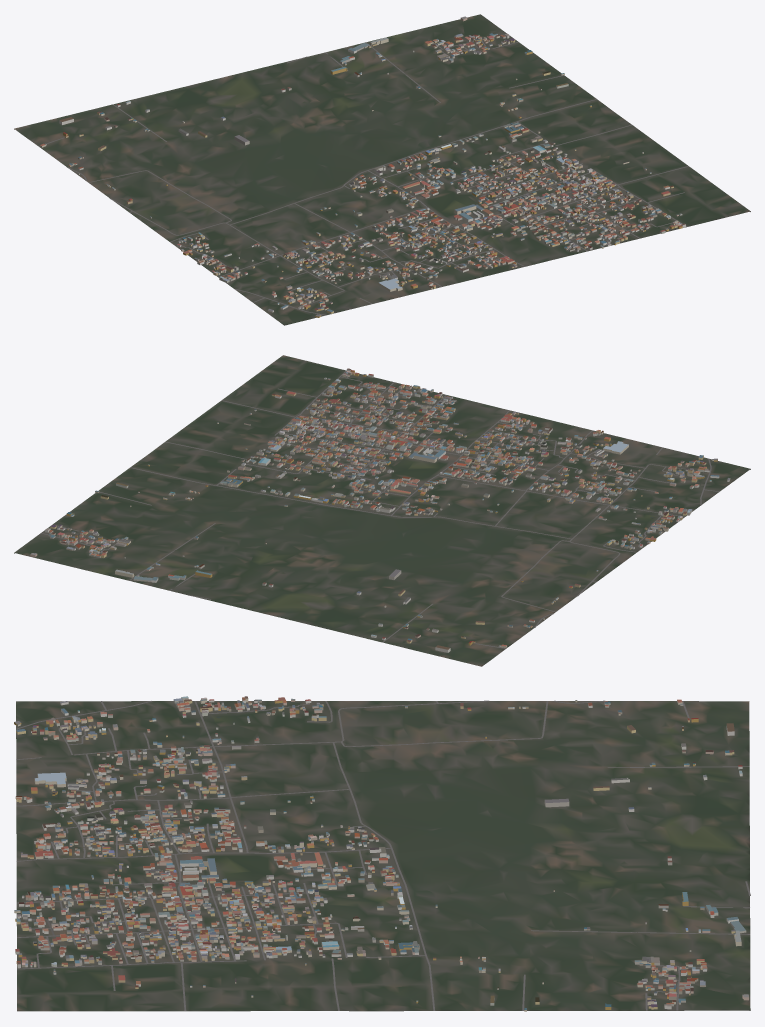
3 renders of one model, top to bottom at view 1: azimuth 30°, elevation 25°; view 2: azimuth 150°, elevation 25°; view 3: azimuth 270°, elevation 25°, orthographic. The views are drawn at different scales.
Visible parts, largest first — view 1: ground, buildings, roads; view 2: ground, buildings, roads; view 3: ground, buildings, roads.
Boxes of the visible parts, box(x1,y1,x2,y2) form: ground: box(14, 14, 750, 325); buildings: box(40, 16, 685, 317); roads: box(38, 34, 688, 315); ground: box(14, 355, 750, 666); buildings: box(30, 368, 730, 652); roads: box(41, 370, 719, 648); ground: box(16, 701, 750, 1011); buildings: box(14, 696, 748, 1011); roads: box(16, 700, 750, 1010).
Size of the model in its own units: 1412 by 14.83 by 1409.
